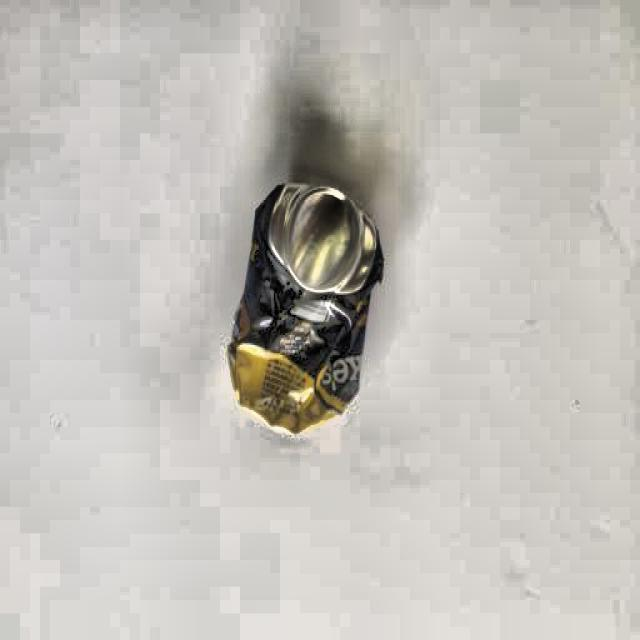metal: (223, 186, 385, 437)
